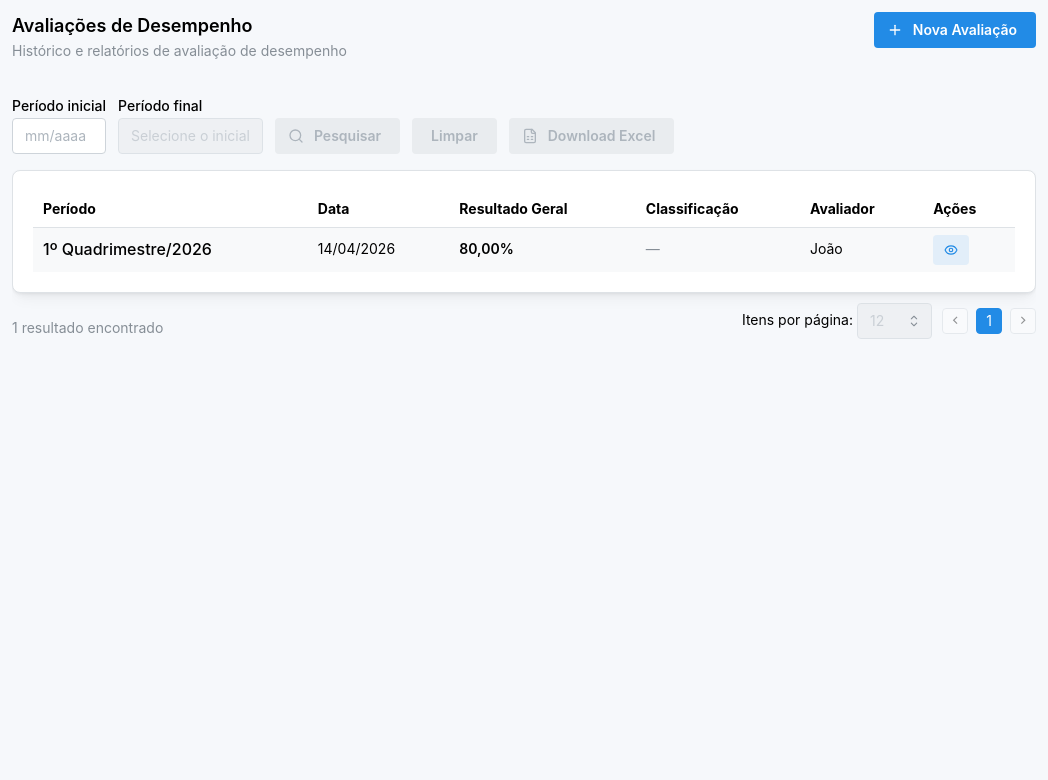
Test: PerformanceEvaluationTab › allows non-master users to add but not edit or delete evaluations
Click the button "Nova Avaliação".
click(955, 30)  # box [874,12,1036,48]
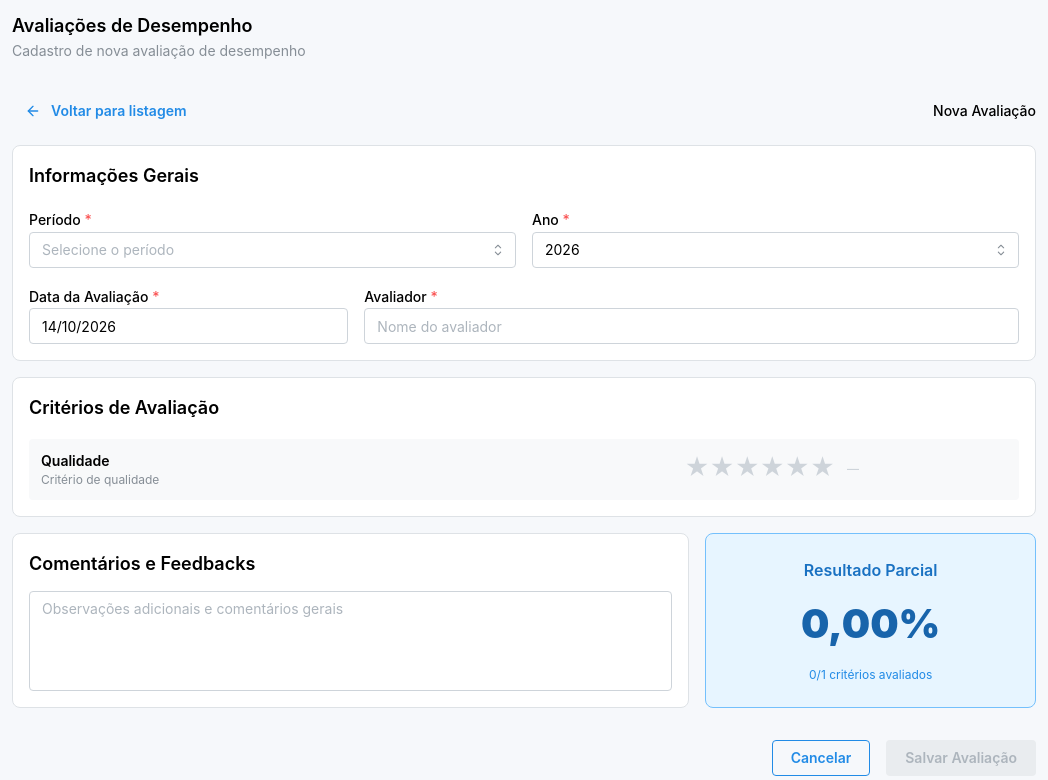
Expected: the text "Nova Avaliação" is shown, [933,101,1036,121]
Expected: the text "Critérios de Avaliação" is shown, [29,398,219,418]
